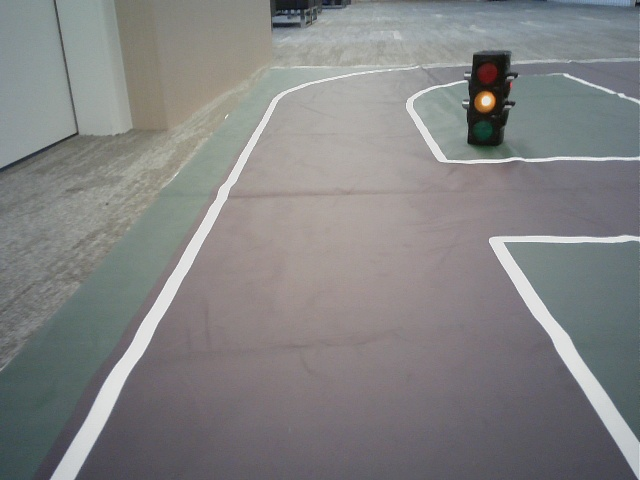yellow: (467, 58, 498, 139)
